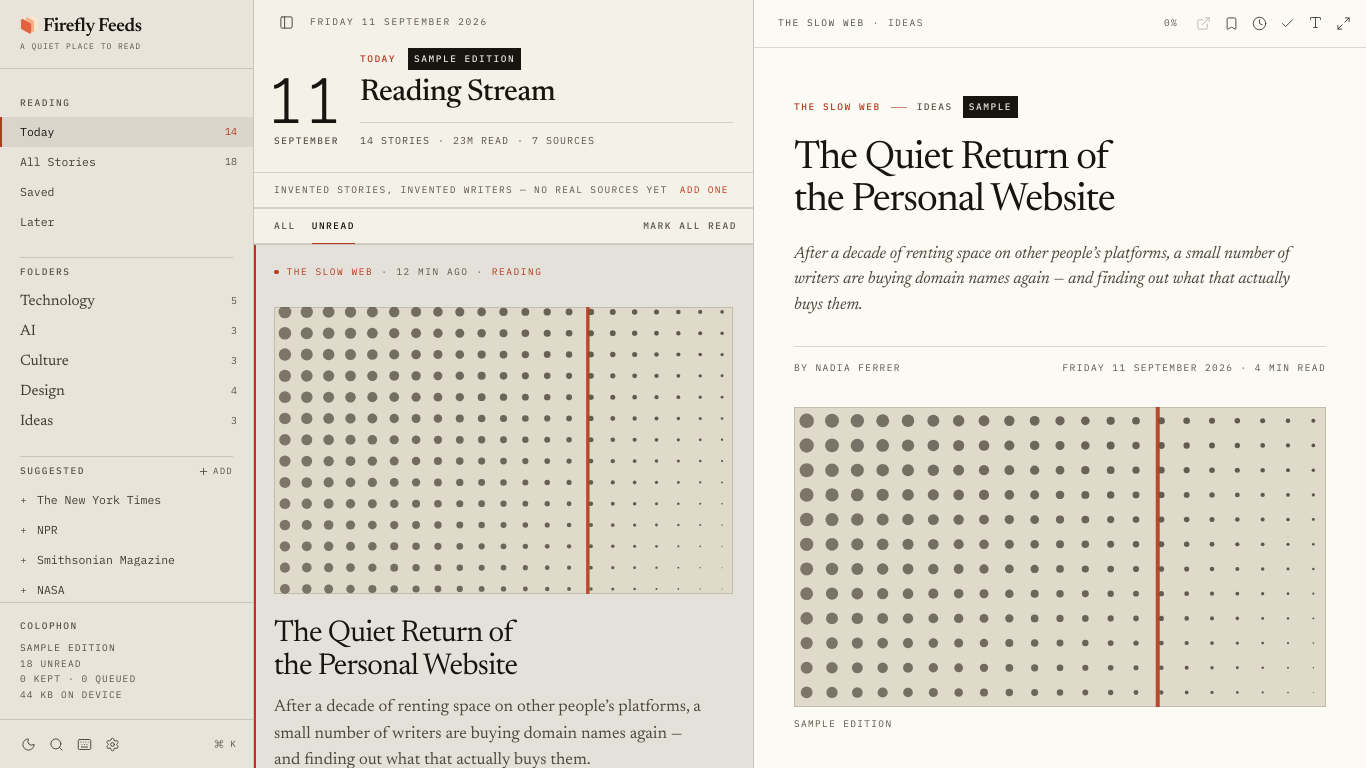
the key legend › opens on ?, closes on Escape, and reopens from the navigation
Expected: the heading "Reading Stream" is shown, [360,78,555,108]
Type keys "?"
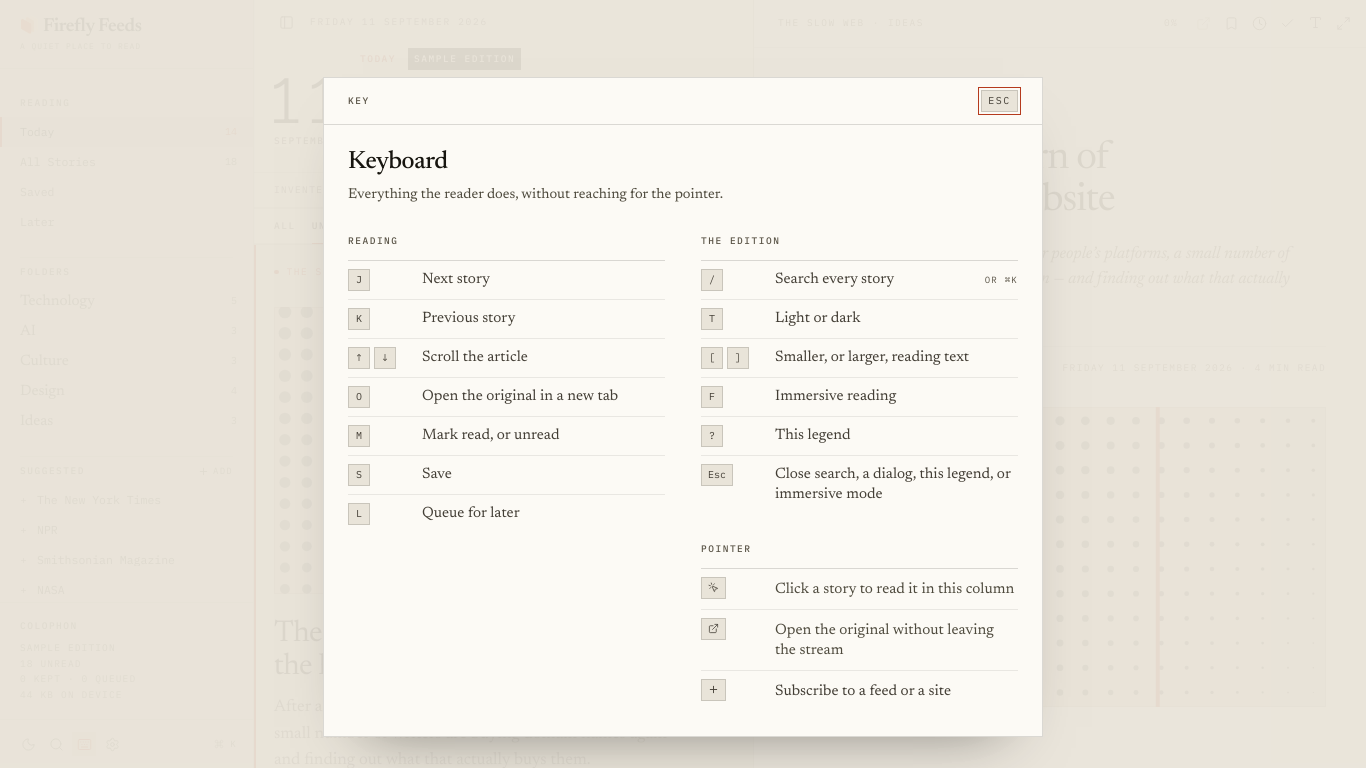
Result: the element that starts with "Key" is shown at [323,77,1043,737]
Press Escape
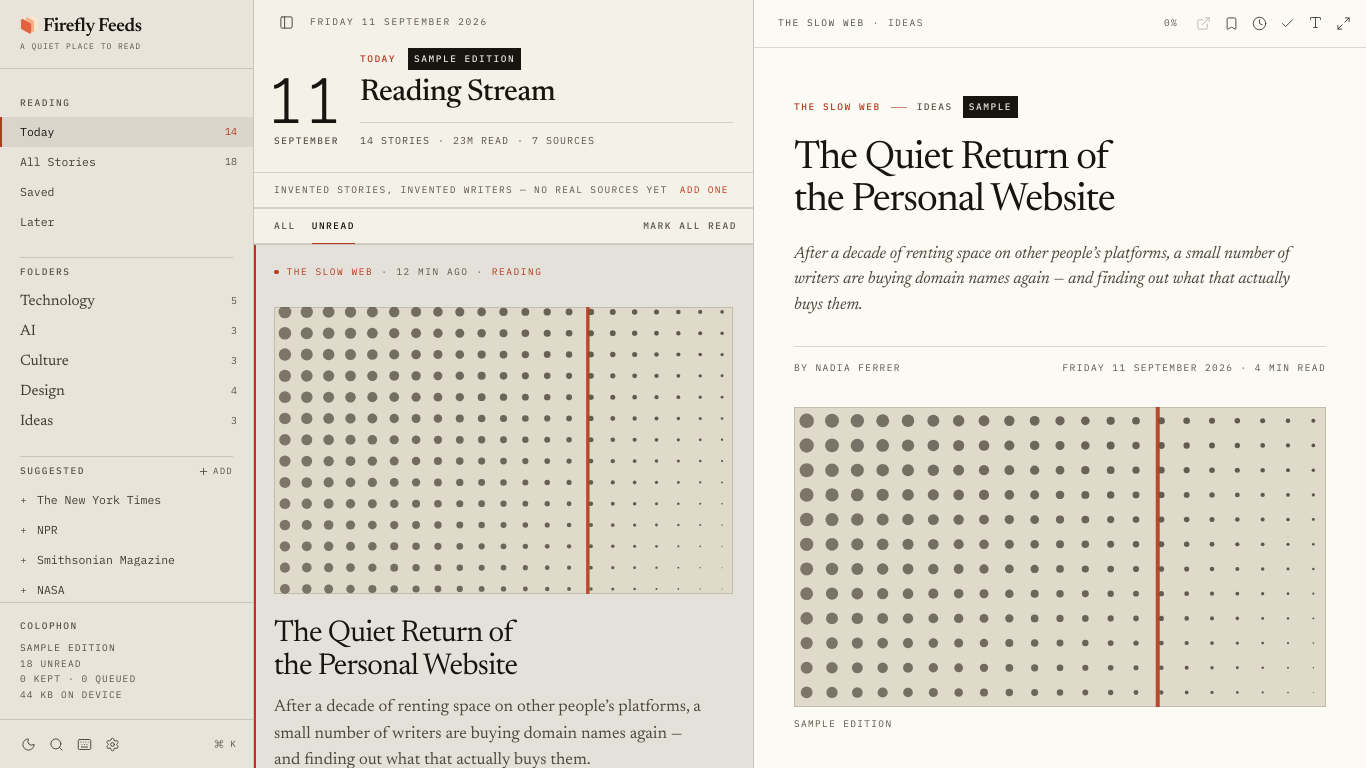
Click the button named "Keyboard shortcuts (?)" at (84, 744), box [72,732,96,756]
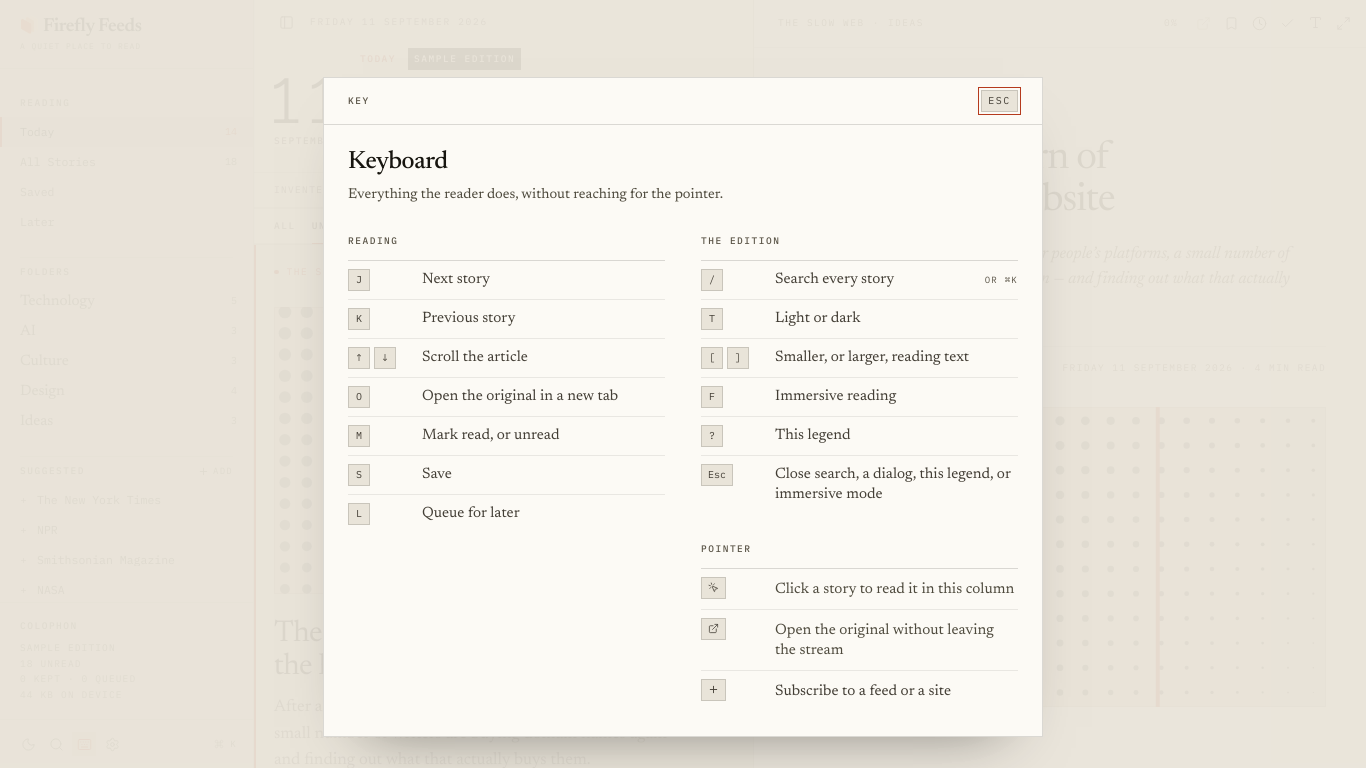
Result: the element that starts with "Key" is shown at [323,77,1043,737]
